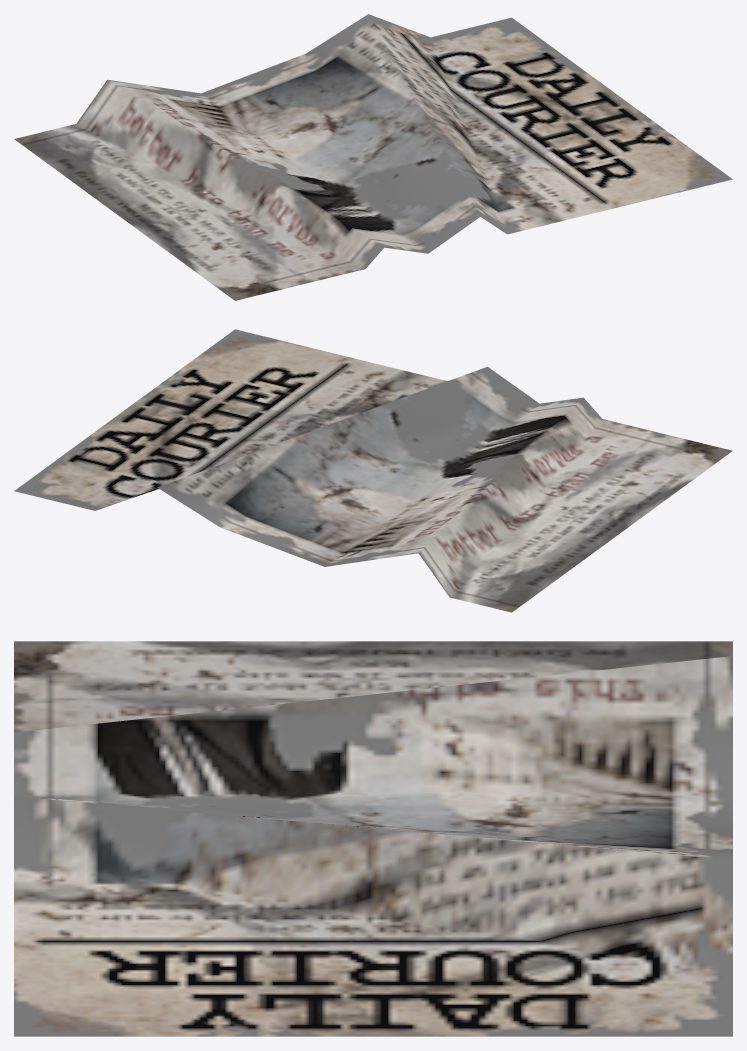
The model's file is Garbage1_1.fbx.
3 views of the same model, one above another, from view 1: azimuth 30°, elevation 25°; view 2: azimuth 150°, elevation 25°; view 3: azimuth 270°, elevation 25° (orthographic). The views are drawn at different scales.
Parts seen in each view (by area): view 1: polySurface5; view 2: polySurface5; view 3: polySurface5.
Part boxes in pixels (x1,y1,x2,y2): polySurface5: [14, 14, 732, 300]; polySurface5: [14, 329, 732, 612]; polySurface5: [14, 641, 732, 1036].
Size of the model in its own units: 1.8 by 0.133 by 1.38.
